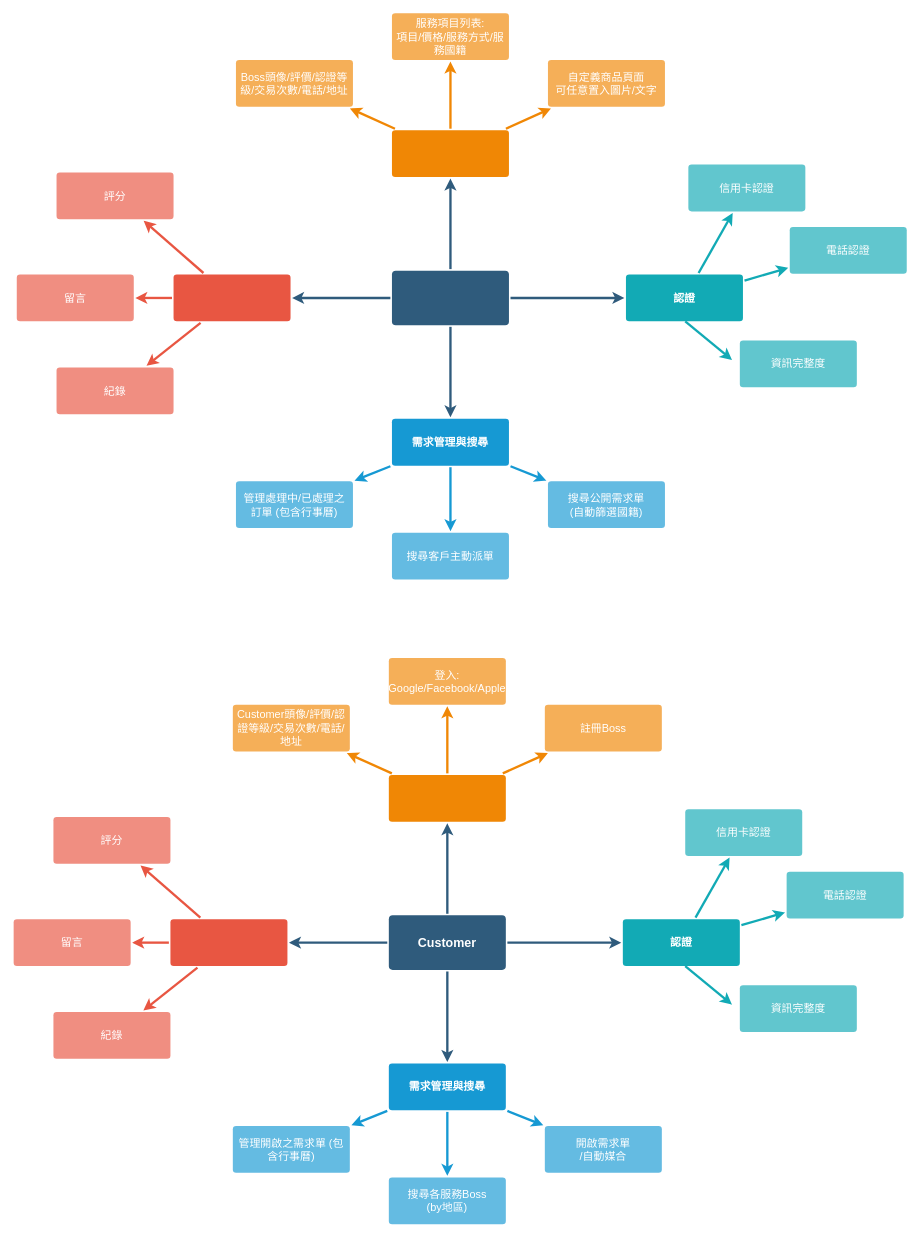
This 920x1238 diagram has some shape labels left out. Each missing label, with the centre of its shape:
Boss: (450,297)
Boss資訊頁: (450,153)
Customer資訊頁: (446,798)
對Boss評分: (228,942)
對Customer評分: (231,297)
